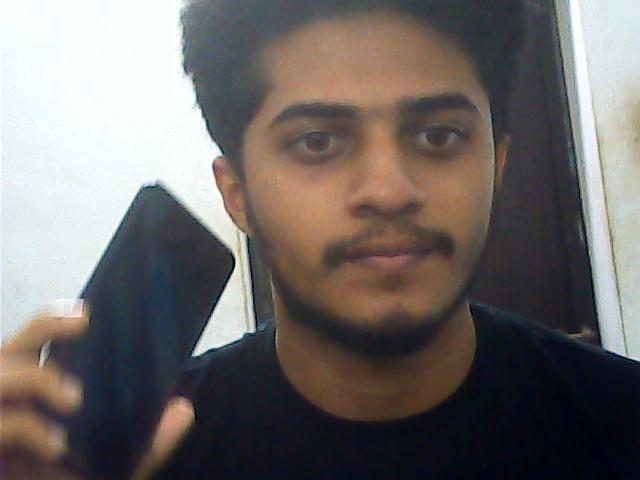PhoneUse: (50, 176, 226, 470)
SafeDriving: (396, 104, 482, 162), (275, 113, 365, 166)
